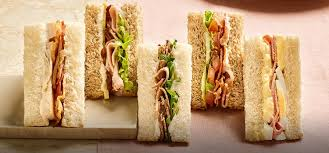sandwich: (232, 22, 319, 152), (179, 6, 255, 123), (20, 18, 92, 138), (129, 36, 196, 147), (79, 1, 146, 107)
